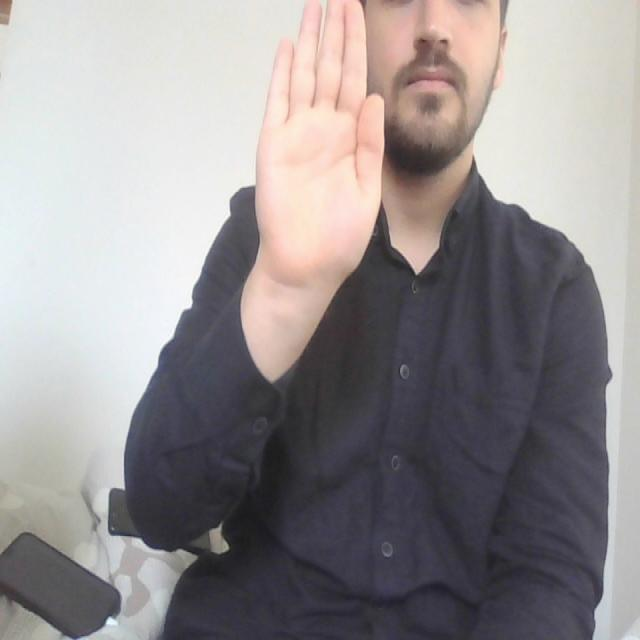Dur: (223, 0, 395, 294)
